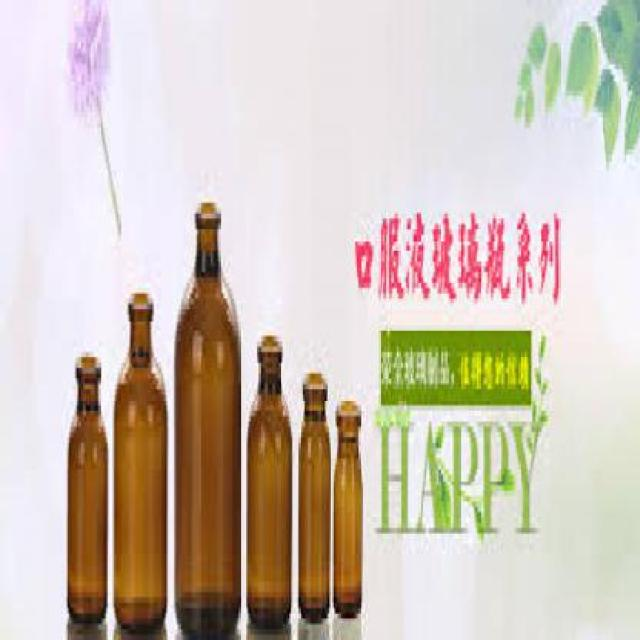kaca: (174, 197, 240, 629), (114, 288, 166, 629), (246, 326, 289, 619), (66, 352, 106, 618), (297, 368, 328, 618), (331, 395, 362, 614)
